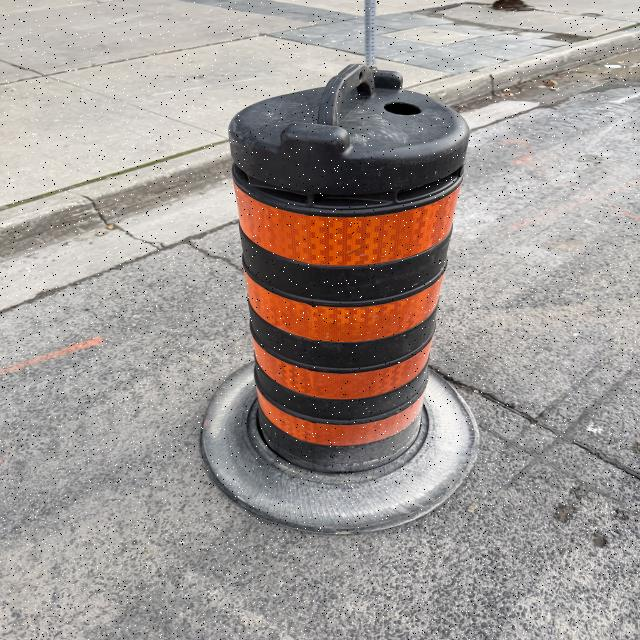Teraffic Barrel: (203, 64, 477, 530)
